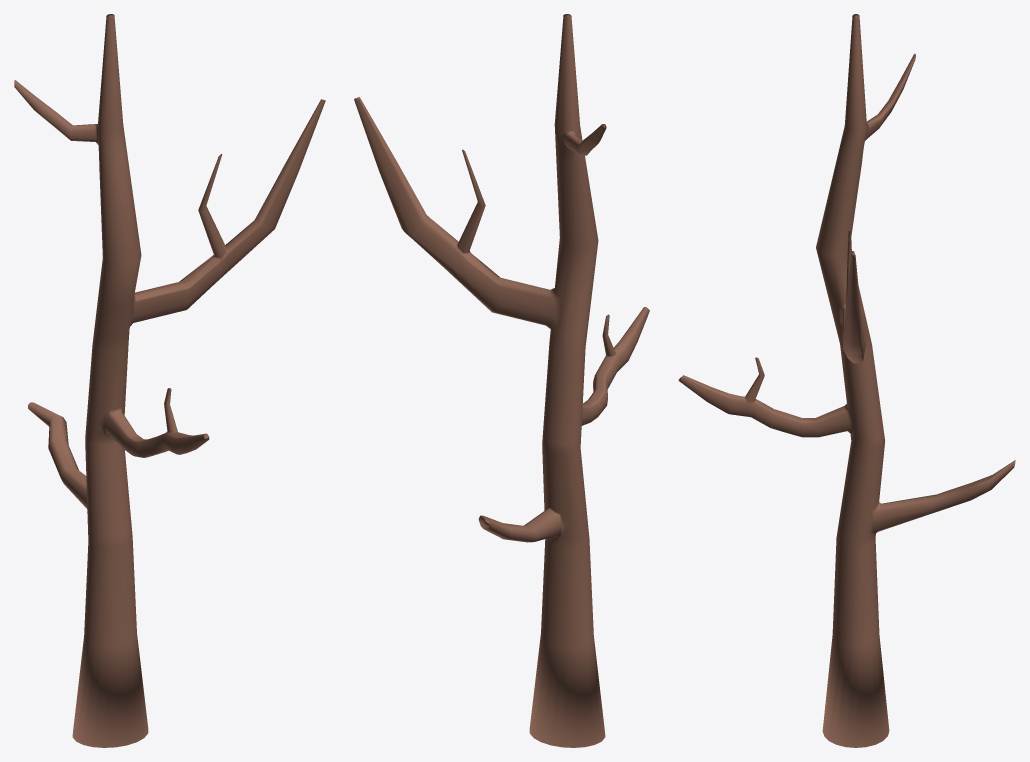
The model's file is ARVORITA1.fbx.
The picture shows the model from 3 angles, left to right: view 1: azimuth 30°, elevation 25°; view 2: azimuth 150°, elevation 25°; view 3: azimuth 270°, elevation 25°; orthographic projection.
Parts seen in each view (by area): view 1: pCylinder1; view 2: pCylinder1; view 3: pCylinder1.
Boxes of the visible parts, x1,y1,x2,y2 form: pCylinder1: (14, 14, 325, 747); pCylinder1: (354, 14, 649, 747); pCylinder1: (678, 14, 1015, 747).
Size of the model in its own units: 1.44 by 3.5 by 1.49.
